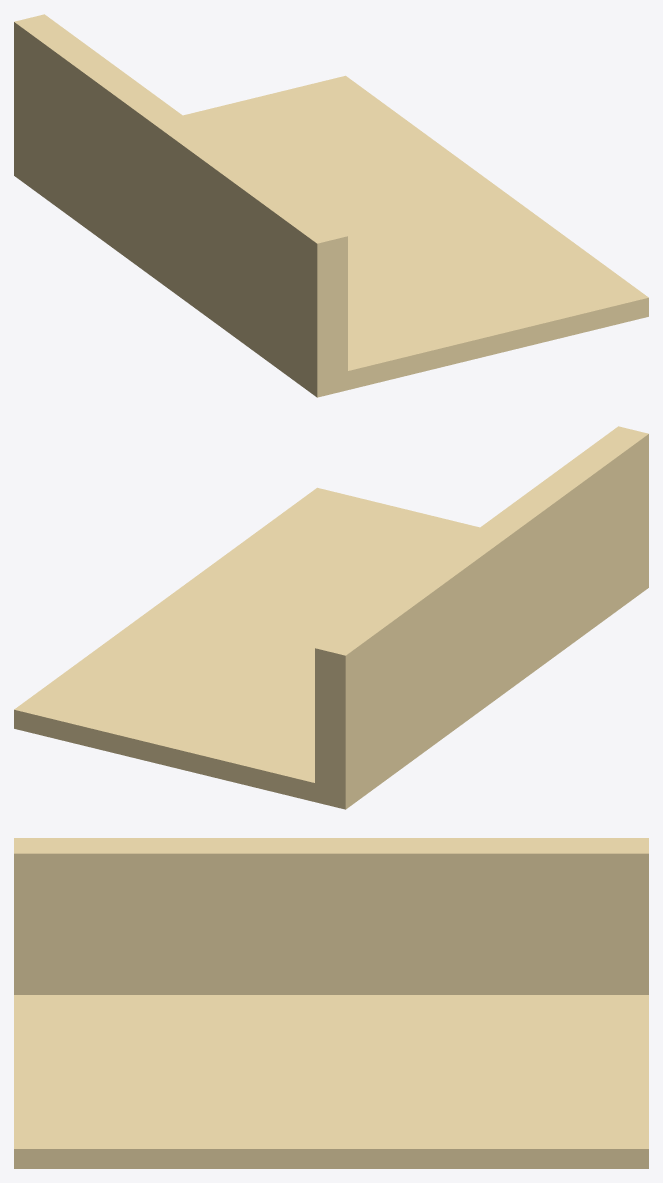
The model's file is wall shelf.fbx.
The picture shows the model from 3 angles, top to bottom: view 1: azimuth 30°, elevation 25°; view 2: azimuth 150°, elevation 25°; view 3: azimuth 270°, elevation 25°; orthographic projection. The views are drawn at different scales.
Visible parts, largest first — view 1: pCube1; view 2: pCube1; view 3: pCube1.
Part boxes in pixels (x1,y1,x2,y2): pCube1: [14, 14, 648, 397]; pCube1: [14, 426, 648, 809]; pCube1: [14, 838, 648, 1168].
Bounding box in the file's own units: 10.72 × 4.75 × 16.97.
Materials: 1 (1 with a texture image).
